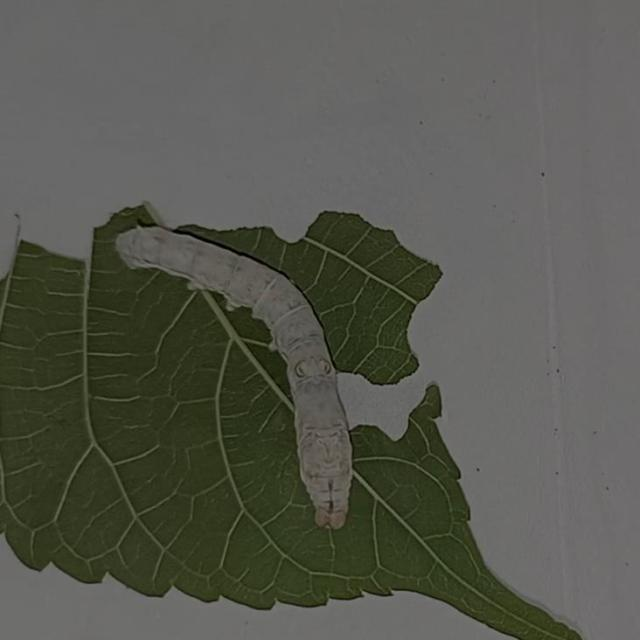Healthy: (108, 217, 358, 534)
